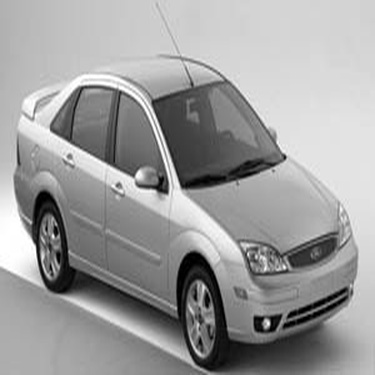car: (11, 43, 362, 372)
